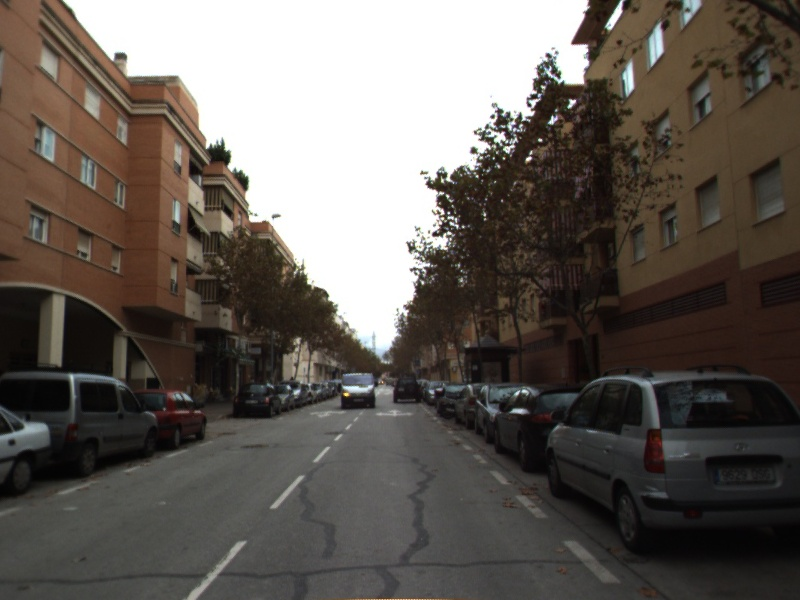STRAIGHT_LEFT_RIGHT: (373, 407, 416, 419)
